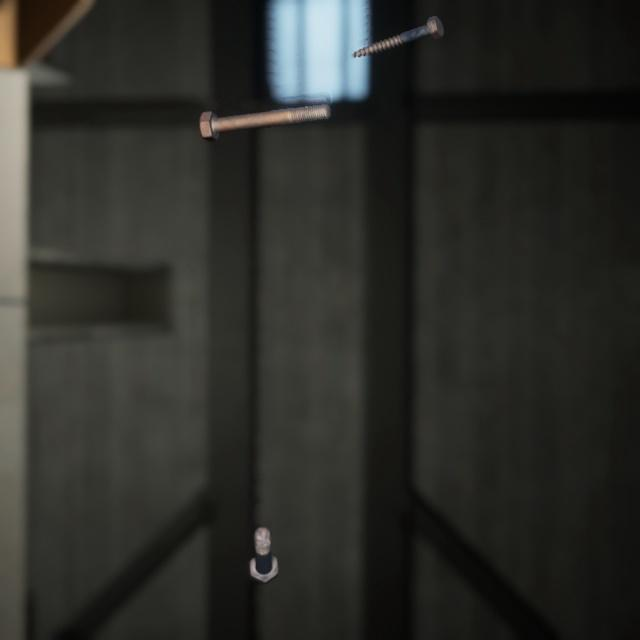bolt: (195, 87, 335, 132), (346, 3, 448, 54), (245, 498, 283, 566)
